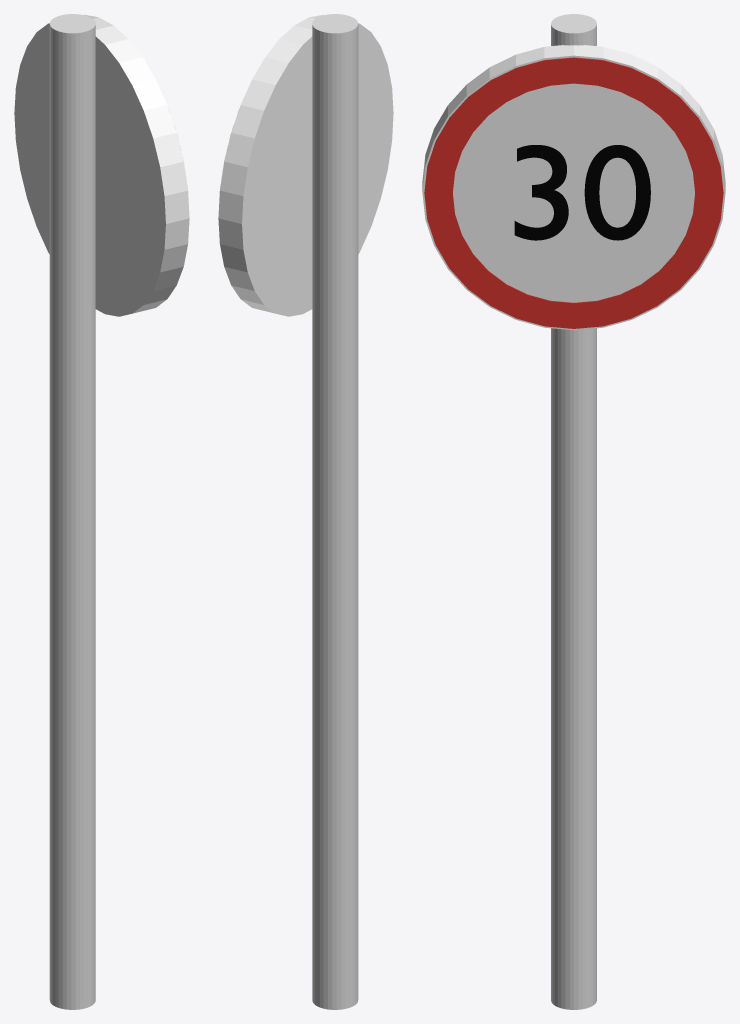
The model's file is SignSpeedLimit30.fbx.
3 renders of one model, left to right at view 1: azimuth 30°, elevation 25°; view 2: azimuth 150°, elevation 25°; view 3: azimuth 270°, elevation 25°, orthographic.
Visible parts, largest first — view 1: Cylinder, SignCircle; view 2: Cylinder, SignCircle; view 3: SignCircle, Cylinder, SignCircle.001, TextStop.002.
Part boxes in pixels (<box>): Cylinder: <box>49,14,95,1009</box>; SignCircle: <box>14,15,189,316</box>; Cylinder: <box>312,14,358,1009</box>; SignCircle: <box>218,15,393,316</box>; SignCircle: <box>422,45,725,330</box>; Cylinder: <box>551,14,596,1009</box>; SignCircle.001: <box>424,57,723,328</box>; TextStop.002: <box>514,145,650,240</box>.
Size of the model in its own units: 111 by 1671 by 470.
